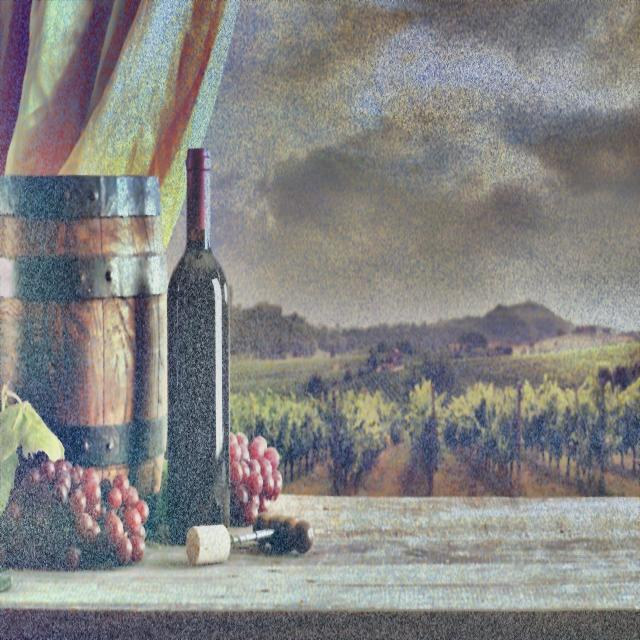cork: (181, 512, 237, 570)
